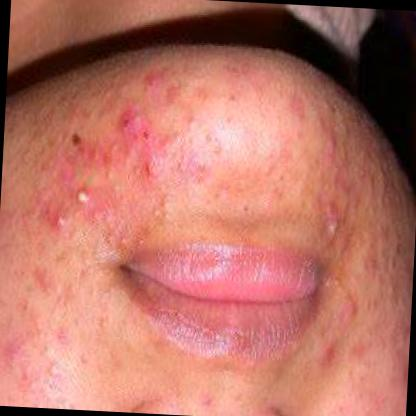Acne: (66, 182, 93, 214), (49, 203, 71, 239), (322, 209, 347, 239)
